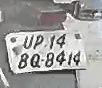1: (48, 34, 56, 52), (66, 50, 73, 68)
4: (56, 51, 67, 69), (56, 33, 67, 50), (73, 50, 82, 69)
8: (45, 52, 56, 69)
B: (17, 52, 29, 71)
P: (33, 33, 43, 52)
Q: (29, 52, 40, 71)
U: (23, 34, 33, 50)
